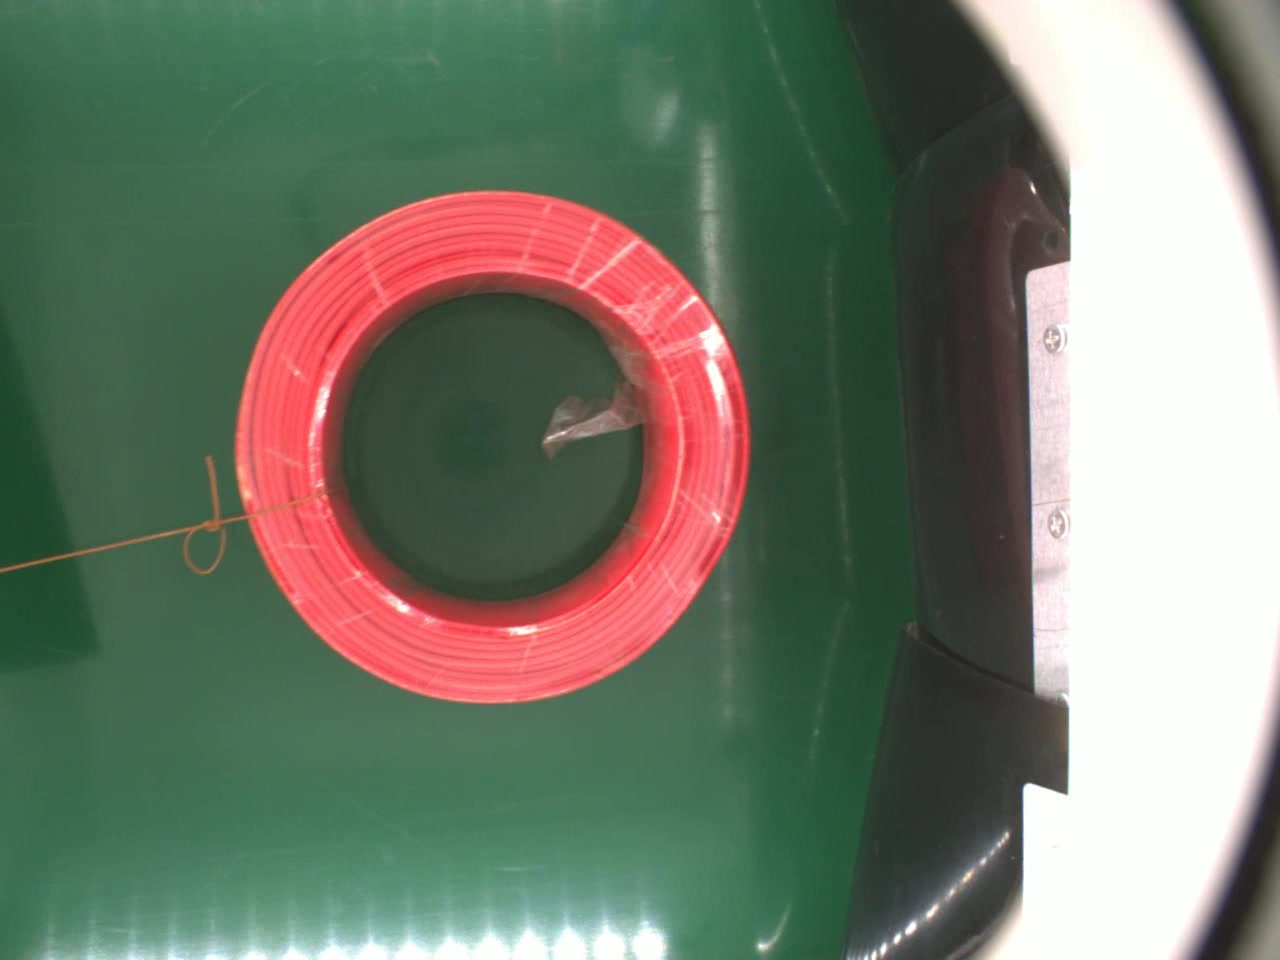red: (232, 184, 756, 705)
